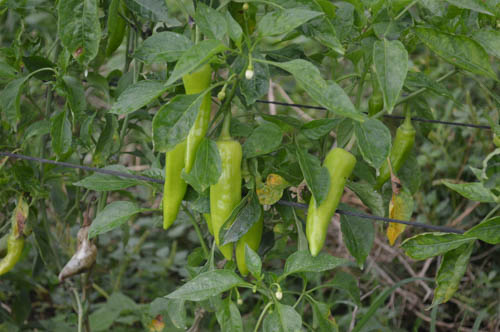ChiliPepper: (305, 148, 353, 261), (210, 142, 240, 256), (182, 67, 210, 173), (165, 145, 189, 234), (378, 129, 414, 188), (231, 221, 261, 271)
